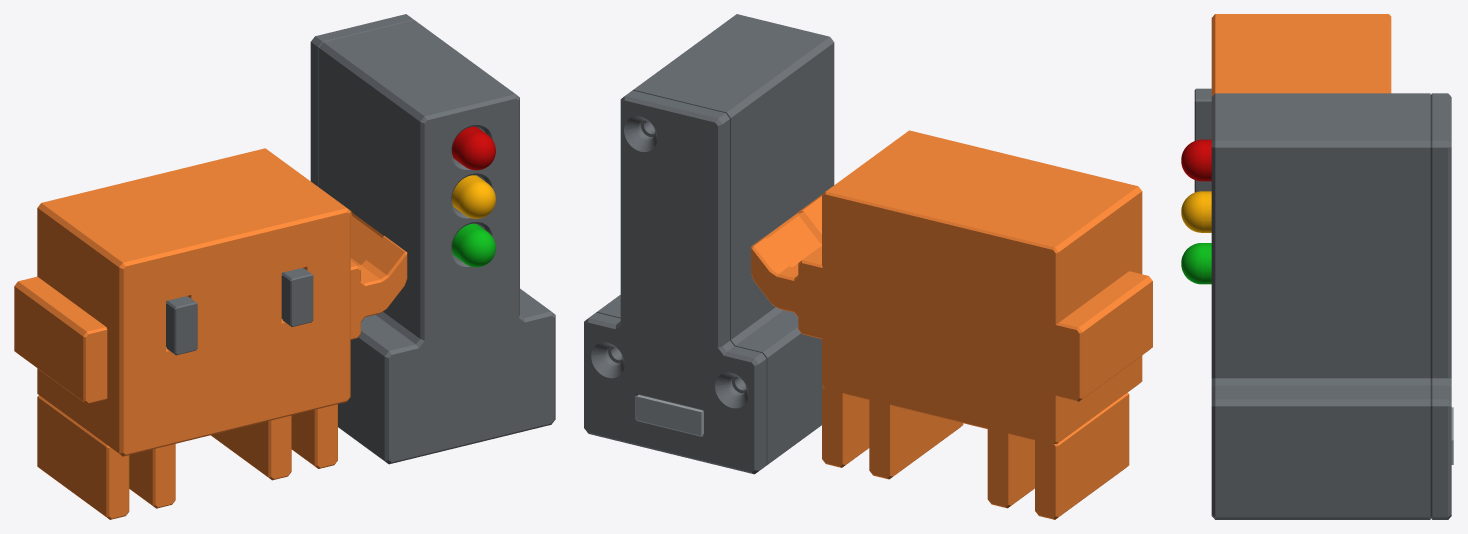
Rendered from clawlight.glb.
3 renders of one model, left to right at view 1: azimuth 30°, elevation 25°; view 2: azimuth 150°, elevation 25°; view 3: azimuth 270°, elevation 25°, orthographic. The views are drawn at different scales.
Visible parts, largest first — view 1: orange_mascot_four_feet_straight_pins_with_45_degree_haunche, black_tower_open_rear_straight_hand_sockets, black_flat_rear_cover_USB_and_PCB_end_stops, black_eye_right, black_eye_left, REFERENCE_ONLY_LED_0, REFERENCE_ONLY_LED_2, REFERENCE_ONLY_LED_1; view 2: orange_mascot_four_feet_straight_pins_with_45_degree_haunche, black_flat_rear_cover_USB_and_PCB_end_stops, black_tower_open_rear_straight_hand_sockets, REFERENCE_ONLY_USB_shell; view 3: black_tower_open_rear_straight_hand_sockets, orange_mascot_four_feet_straight_pins_with_45_degree_haunche, black_flat_rear_cover_USB_and_PCB_end_stops, REFERENCE_ONLY_LED_2, REFERENCE_ONLY_LED_0, REFERENCE_ONLY_LED_1, black_eye_left.
Boxes of the visible parts, x1,y1,x2,y2 form: orange_mascot_four_feet_straight_pins_with_45_degree_haunche: (14,148,407,519); black_tower_open_rear_straight_hand_sockets: (319,20,555,464); black_flat_rear_cover_USB_and_PCB_end_stops: (310,14,413,186); black_eye_right: (281,268,313,326); black_eye_left: (166,296,197,355); REFERENCE_ONLY_LED_0: (452,223,495,267); REFERENCE_ONLY_LED_2: (452,126,495,170); REFERENCE_ONLY_LED_1: (452,175,495,218); orange_mascot_four_feet_straight_pins_with_45_degree_haunche: (751,130,1152,519); black_flat_rear_cover_USB_and_PCB_end_stops: (584,90,766,474); black_tower_open_rear_straight_hand_sockets: (596,14,834,465); REFERENCE_ONLY_USB_shell: (636,395,703,435); black_tower_open_rear_straight_hand_sockets: (1211,93,1430,519); orange_mascot_four_feet_straight_pins_with_45_degree_haunche: (1211,14,1391,96); black_flat_rear_cover_USB_and_PCB_end_stops: (1430,93,1451,519); REFERENCE_ONLY_LED_2: (1181,139,1211,181); REFERENCE_ONLY_LED_0: (1181,243,1211,284); REFERENCE_ONLY_LED_1: (1181,191,1211,232); black_eye_left: (1194,88,1211,140).
Bounding box in the file's own units: 0.0645 × 0.0455 × 0.0311.
